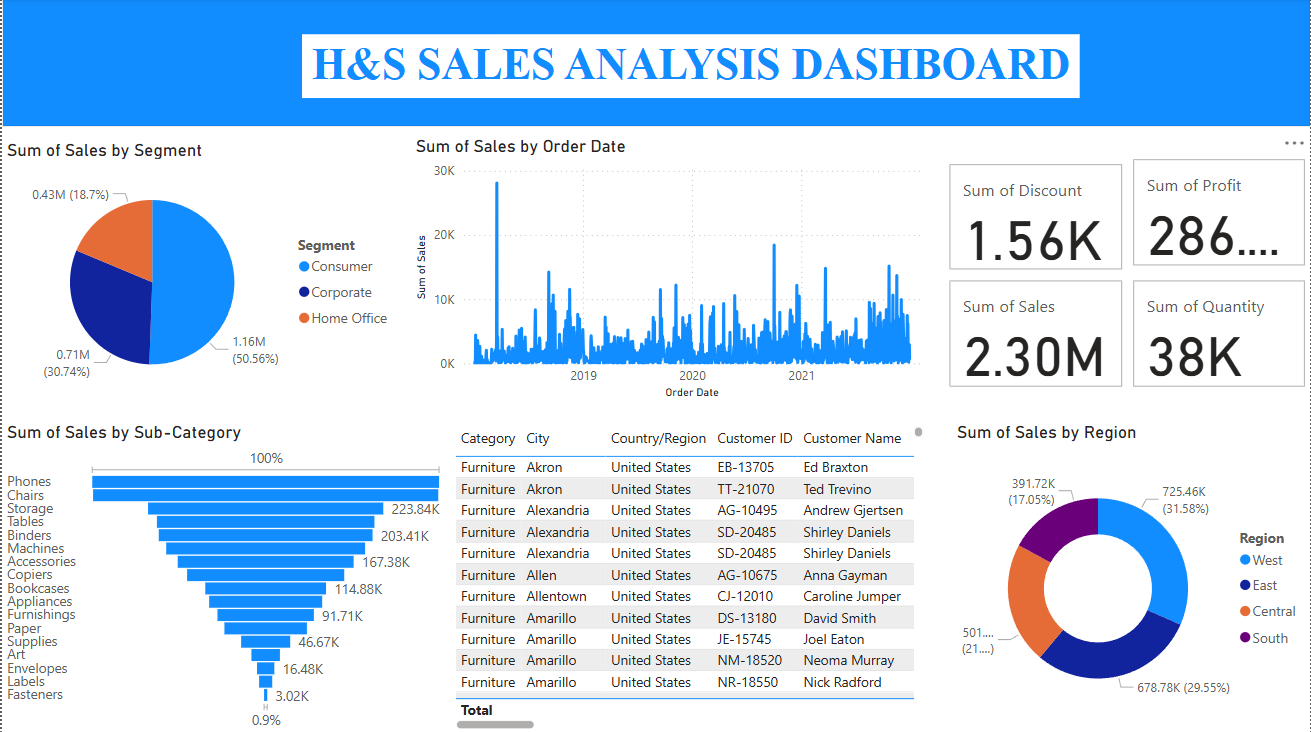

Layout of this report page (visuals, bound fields, positions):
{"tool":"powerbi","page":{"name":"Page 1","canvas":[1280,720],"ordinal":0},"visuals":[{"type":"donutChart","fields":{"Category":["Orders.Region"],"Y":["Orders.Sales"]},"box":[929.4,414.5,351,305.7],"z":0},{"type":"funnel","fields":{"Category":["Orders.Sub-Category"],"Y":["Orders.Sales"]},"box":[0,414.5,437.8,305.7],"z":1},{"type":"pieChart","fields":{"Category":["Orders.Segment"],"Y":["Orders.Sales"]},"box":[0,138.2,391.3,259.2],"z":2},{"type":"lineChart","fields":{"Category":["Orders.Order Date"],"Y":["Orders.Sales"]},"box":[399.9,134.5,506.3,262.9],"z":3},{"type":"cardVisual","fields":{"Data":["Orders.Sales"]},"box":[922,271.5,179.8,114.9],"z":4},{"type":"cardVisual","fields":{"Data":["Orders.Discount"]},"box":[922,157.7,179.8,113.7],"z":5},{"type":"cardVisual","fields":{"Data":["Orders.Quantity"]},"box":[1101.8,271.5,178.5,114.9],"z":6},{"type":"cardVisual","fields":{"Data":["Orders.Profit"]},"box":[1101.8,152.9,178.5,114.9],"z":7},{"type":"tableEx","fields":{"Values":["Orders.Category","Orders.City","Orders.Country/Region","Orders.Customer ID","Orders.Customer Name","Orders.Discount","Orders.Order Date.Variation.Date Hierarchy.Year","Orders.Order Date.Variation.Date Hierarchy.Quarter","Orders.Order Date.Variation.Date Hierarchy.Month","Orders.Order Date.Variation.Date Hierarchy.Day","Orders.Order ID","Orders.Postal Code"]},"box":[437.8,414.5,468.3,305.7],"z":8},{"type":"textbox","box":[906,0,180,150],"z":9},{"type":"shape","box":[0,0,1280.3,126],"z":10},{"type":"textbox","box":[293.5,35.5,760.6,62.4],"z":11}]}

Visuals, with their boxes in screenshot pixels (x1, y1, x2, y2), scaled from the page's 1280x720 canvas onto the 1311x732 screenshot:
donutChart - Orders.Region x Orders.Sales: {"left": 952, "top": 421, "right": 1310, "bottom": 731}
funnel - Orders.Sub-Category x Orders.Sales: {"left": 0, "top": 421, "right": 448, "bottom": 731}
pieChart - Orders.Segment x Orders.Sales: {"left": 0, "top": 141, "right": 401, "bottom": 404}
lineChart - Orders.Order Date x Orders.Sales: {"left": 410, "top": 137, "right": 928, "bottom": 404}
cardVisual - Orders.Sales: {"left": 944, "top": 276, "right": 1128, "bottom": 393}
cardVisual - Orders.Discount: {"left": 944, "top": 160, "right": 1128, "bottom": 276}
cardVisual - Orders.Quantity: {"left": 1128, "top": 276, "right": 1310, "bottom": 393}
cardVisual - Orders.Profit: {"left": 1128, "top": 155, "right": 1310, "bottom": 272}
tableEx - Orders.Category x Orders.City: {"left": 448, "top": 421, "right": 928, "bottom": 731}
textbox: {"left": 928, "top": 0, "right": 1112, "bottom": 152}
shape: {"left": 0, "top": 0, "right": 1310, "bottom": 128}
textbox: {"left": 301, "top": 36, "right": 1080, "bottom": 100}
